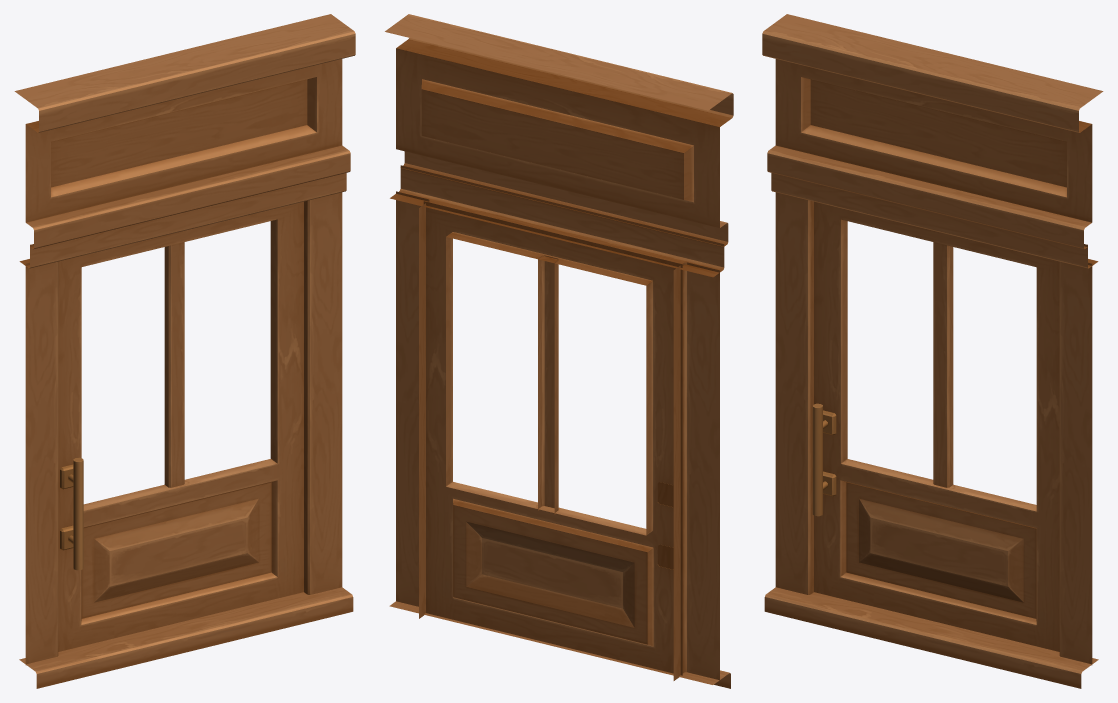
File: SM_Wall_Store_Door.FBX
3 views of the same model, side by side, from view 1: azimuth 30°, elevation 25°; view 2: azimuth 150°, elevation 25°; view 3: azimuth 330°, elevation 25° (orthographic). The views are drawn at different scales.
Visible parts, largest first — view 1: SM_Wall_Store_Door; view 2: SM_Wall_Store_Door; view 3: SM_Wall_Store_Door.
Part boxes in pixels (x1=…): SM_Wall_Store_Door: x1=14, y1=14, x2=355, y2=688; SM_Wall_Store_Door: x1=385, y1=14, x2=733, y2=688; SM_Wall_Store_Door: x1=762, y1=14, x2=1103, y2=688.
Bounding box in the file's own units: 200 × 351 × 26.98.
